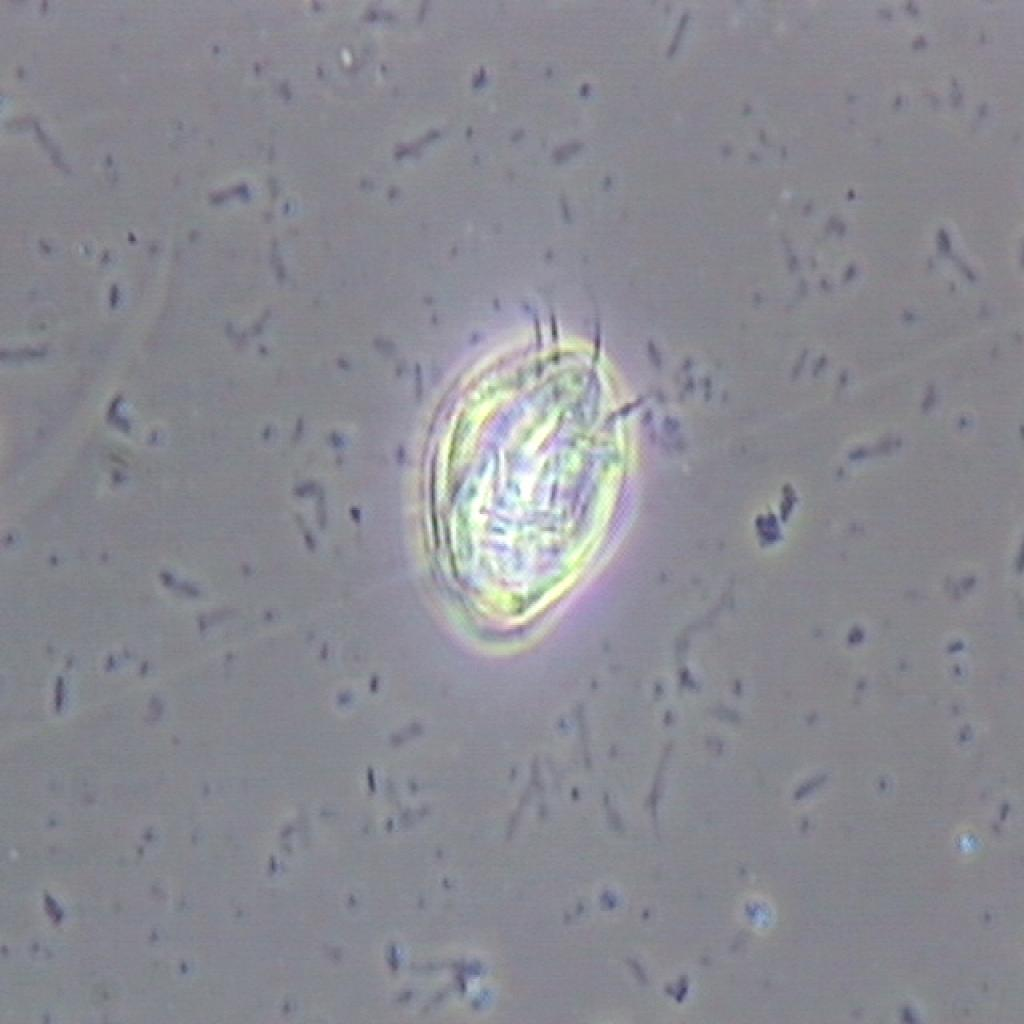Euplotes: (396, 294, 676, 662)
